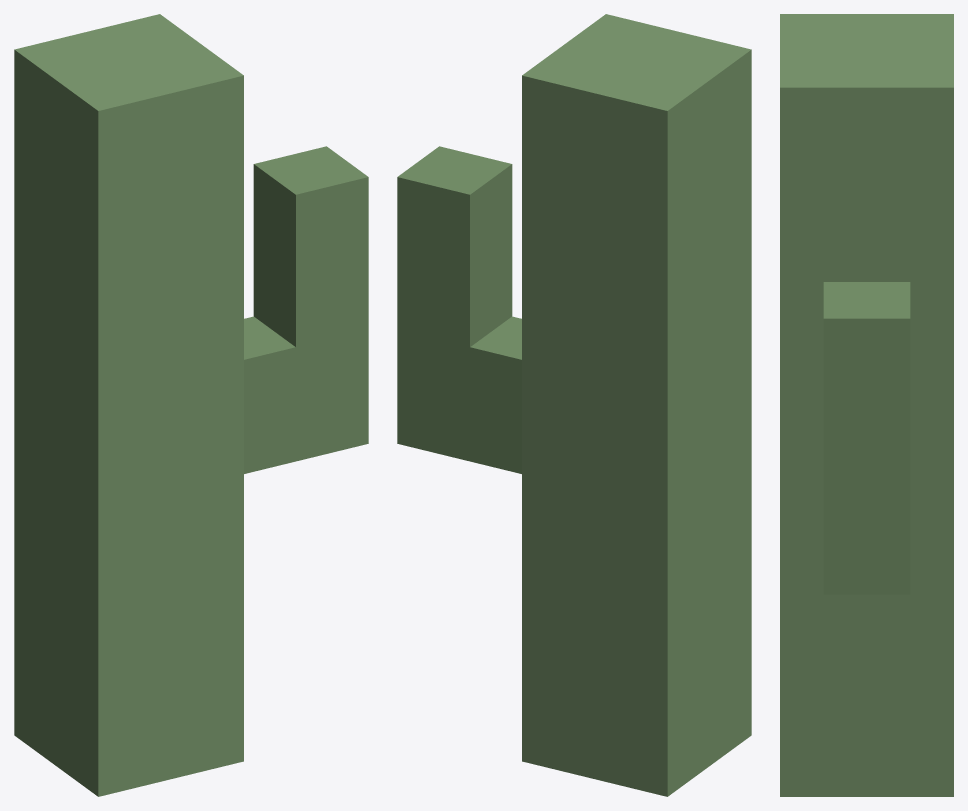
File: saguaro_05.glb
3 views of the same model, side by side, from view 1: azimuth 30°, elevation 25°; view 2: azimuth 150°, elevation 25°; view 3: azimuth 270°, elevation 25° (orthographic). The views are drawn at different scales.
Parts seen in each view (by area): view 1: saguaro_05; view 2: saguaro_05; view 3: saguaro_05.
Part boxes in pixels (box(x1,y1,x2,y2)): saguaro_05: box(14, 14, 368, 796); saguaro_05: box(397, 14, 751, 796); saguaro_05: box(780, 14, 953, 796).
Bounding box in the file's own units: 0.8 × 1.8 × 0.4.
